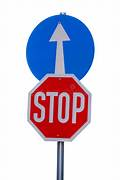forward: (25, 15, 92, 80)
stop: (27, 75, 89, 142)
